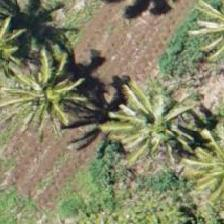coconut_tree: (119, 98, 209, 188), (8, 54, 98, 144), (175, 122, 223, 212)
